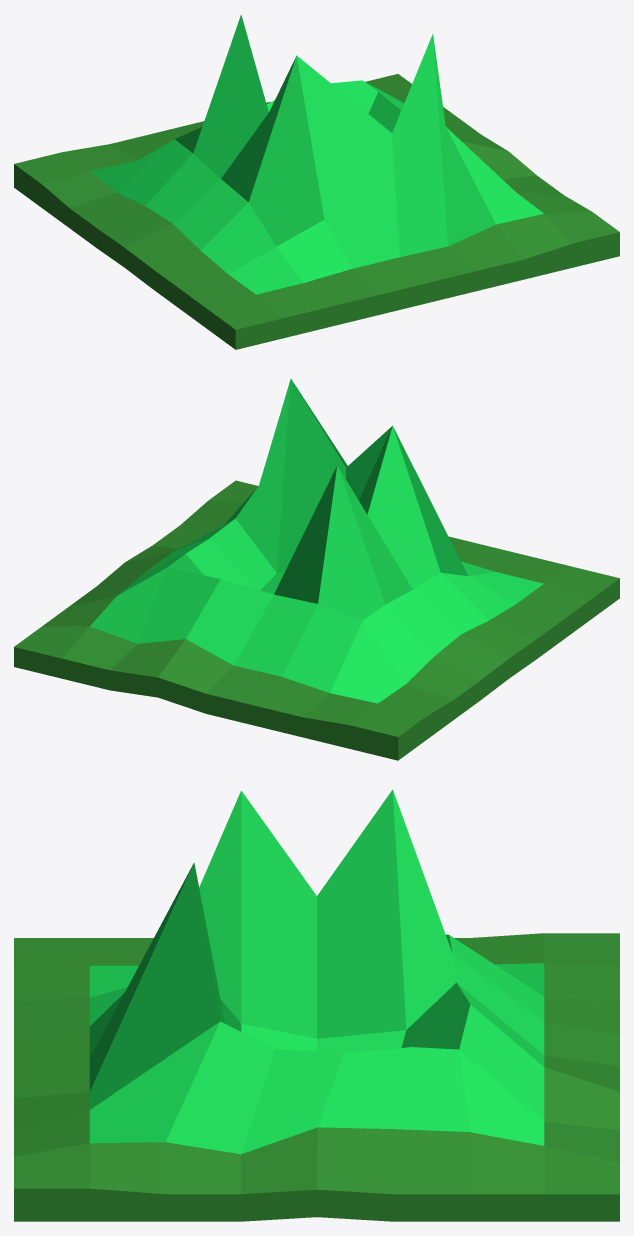
File: Mountain_T3.fbx
3 views of the same model, one above another, from view 1: azimuth 30°, elevation 25°; view 2: azimuth 150°, elevation 25°; view 3: azimuth 270°, elevation 25° (orthographic). The views are drawn at different scales.
Visible parts, largest first — view 1: Mountain_T3; view 2: Mountain_T3; view 3: Mountain_T3.
Boxes of the visible parts, x1,y1,x2,y2 form: Mountain_T3: [14, 14, 619, 349]; Mountain_T3: [14, 378, 619, 760]; Mountain_T3: [14, 789, 619, 1221].
Size of the model in its own units: 200 by 102 by 200.
